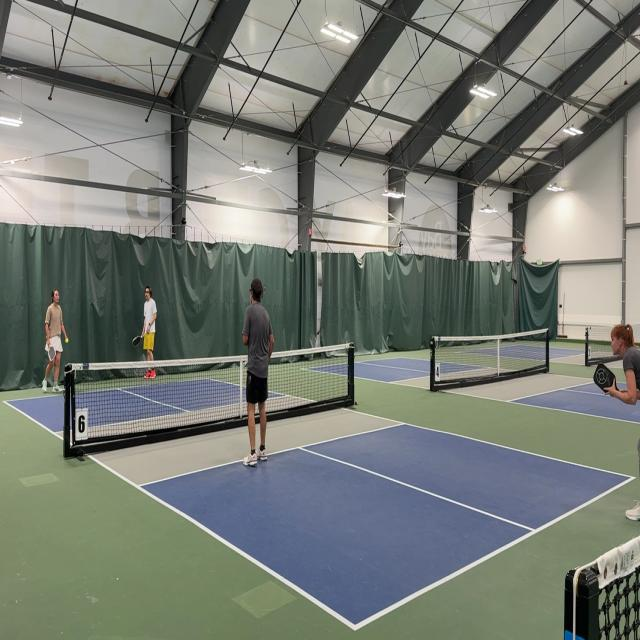ball: (66, 338, 68, 344)
